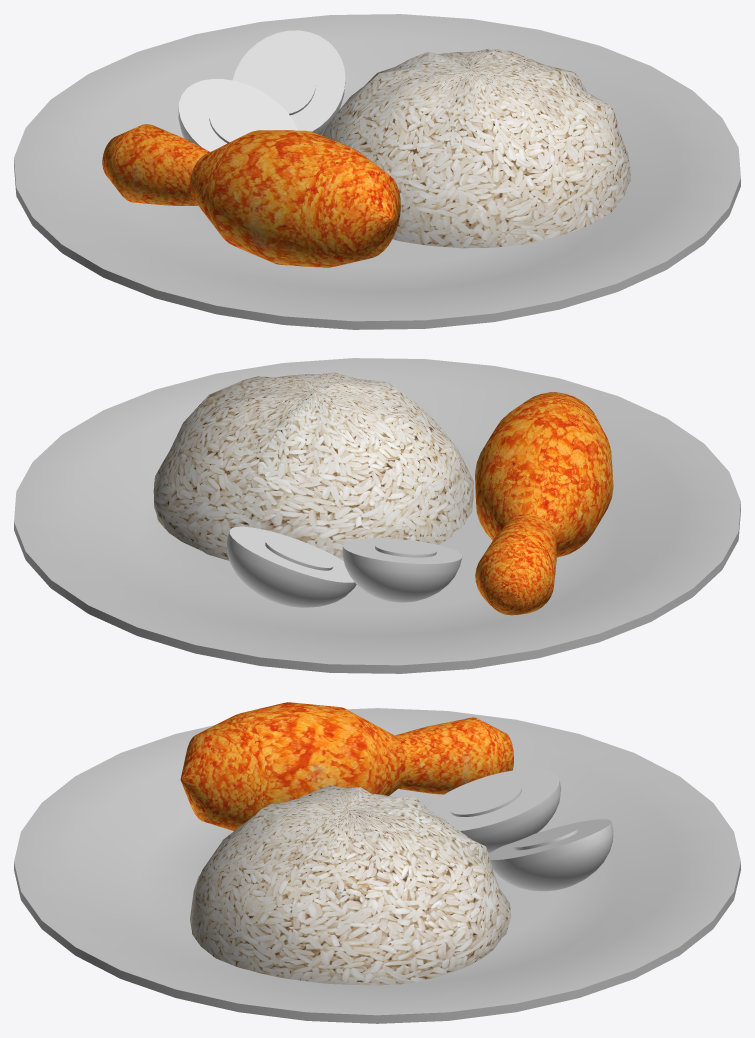
The model's file is nasilemak.fbx.
The picture shows the model from 3 angles, top to bottom: view 1: azimuth 30°, elevation 25°; view 2: azimuth 150°, elevation 25°; view 3: azimuth 270°, elevation 25°; orthographic projection.
Parts seen in each view (by area): view 1: Cylinder001, Sphere001, Cylinder003, Cylinder002, Sphere002, Sphere005, Sphere003, Sphere004; view 2: Cylinder001, Sphere001, Cylinder003, Cylinder002, Sphere002, Sphere005, Sphere003, Sphere004; view 3: Cylinder001, Sphere001, Cylinder003, Cylinder002, Sphere005, Sphere002, Sphere004, Sphere003.
Part boxes in pixels (bbox=[...]): Cylinder001: bbox=[14, 14, 740, 329]; Sphere001: bbox=[321, 49, 630, 248]; Cylinder003: bbox=[190, 130, 400, 267]; Cylinder002: bbox=[102, 124, 209, 205]; Sphere002: bbox=[232, 30, 345, 134]; Sphere005: bbox=[178, 79, 297, 151]; Sphere003: bbox=[256, 57, 315, 115]; Sphere004: bbox=[209, 101, 271, 143]; Cylinder001: bbox=[14, 358, 740, 673]; Sphere001: bbox=[153, 372, 473, 560]; Cylinder003: bbox=[475, 392, 613, 557]; Cylinder002: bbox=[475, 514, 556, 615]; Sphere002: bbox=[227, 526, 356, 607]; Sphere005: bbox=[342, 538, 462, 602]; Sphere003: bbox=[265, 539, 333, 570]; Sphere004: bbox=[375, 541, 437, 557]; Cylinder001: bbox=[14, 708, 740, 1023]; Sphere001: bbox=[190, 785, 511, 985]; Cylinder003: bbox=[180, 702, 405, 830]; Cylinder002: bbox=[395, 717, 513, 794]; Sphere005: bbox=[427, 768, 561, 853]; Sphere002: bbox=[488, 819, 613, 891]; Sphere004: bbox=[449, 782, 521, 816]; Sphere003: bbox=[513, 826, 578, 850].
Size of the model in its own units: 57.81 by 10.95 by 57.81.
